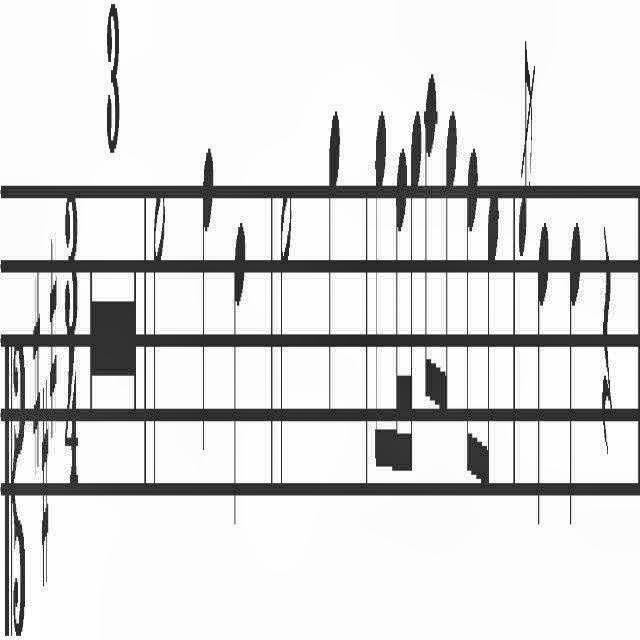Diez: (40, 380, 49, 594), (49, 225, 57, 440), (34, 264, 40, 476)
Eighth-note: (438, 96, 458, 422), (480, 182, 500, 486), (464, 132, 478, 490), (374, 96, 386, 488), (424, 66, 436, 422)
Half-note: (152, 176, 166, 496), (279, 184, 293, 496)
Quarter-note: (536, 207, 550, 538), (232, 209, 246, 539), (201, 136, 215, 460), (568, 212, 582, 532), (328, 99, 340, 421)
Quarter-rest: (602, 222, 614, 466)
Sixteenth-note: (408, 96, 424, 490), (392, 146, 408, 487)
